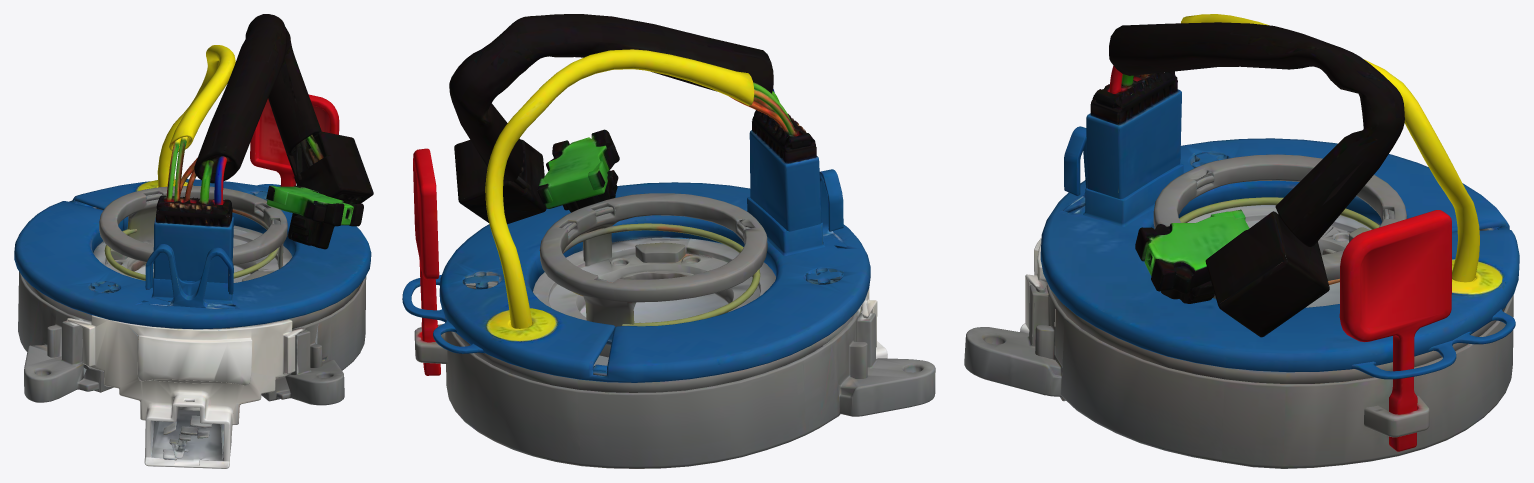
File: clock-spring.glb
3 renders of one model, left to right at view 1: azimuth 30°, elevation 25°; view 2: azimuth 150°, elevation 25°; view 3: azimuth 270°, elevation 25°, orthographic. The views are drawn at different scales.
Parts seen in each view (by area): view 1: tripo_node_91d44d41-8a00-4ac8-876a-d960ae46fac0; view 2: tripo_node_91d44d41-8a00-4ac8-876a-d960ae46fac0; view 3: tripo_node_91d44d41-8a00-4ac8-876a-d960ae46fac0.
Boxes of the visible parts, bbox=[...] form: tripo_node_91d44d41-8a00-4ac8-876a-d960ae46fac0: bbox=[14, 14, 373, 468]; tripo_node_91d44d41-8a00-4ac8-876a-d960ae46fac0: bbox=[402, 14, 935, 468]; tripo_node_91d44d41-8a00-4ac8-876a-d960ae46fac0: bbox=[964, 14, 1519, 468].
Bounding box in the file's own units: 0.9995 × 0.8599 × 0.9663.
1 material, 1 textured.
